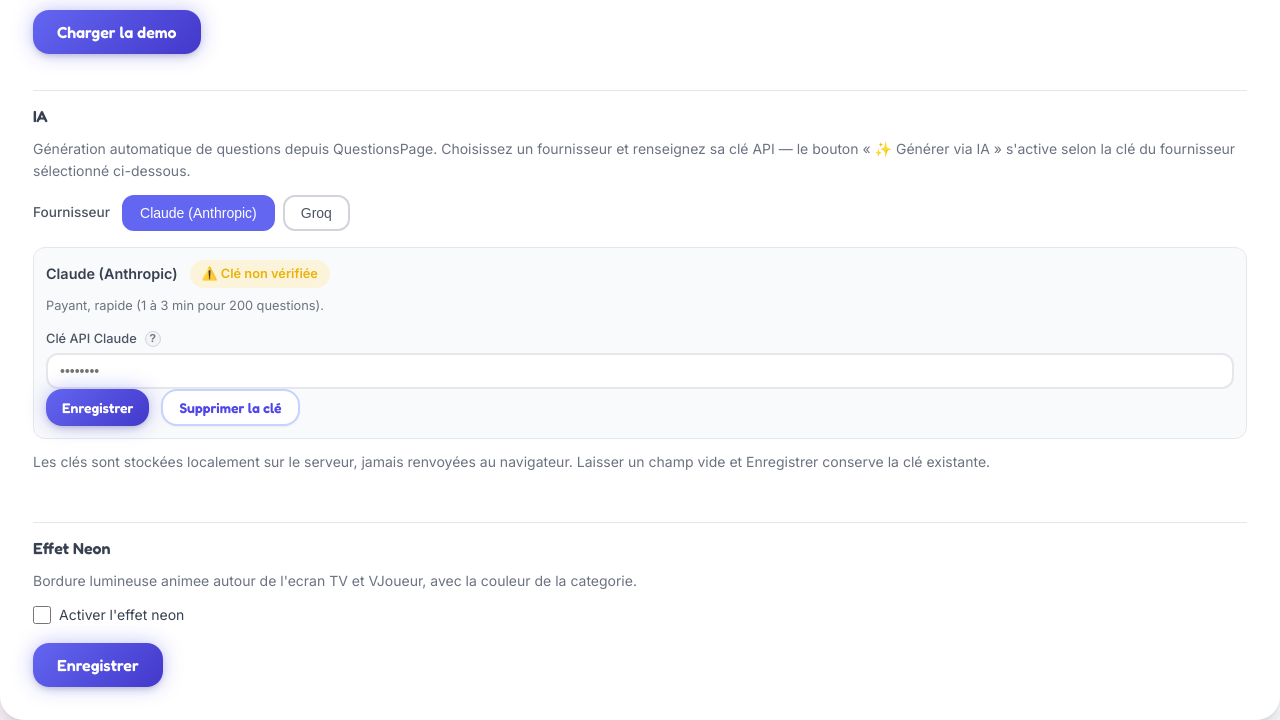
Test: ConfigPage — Sélecteur de fournisseur IA, sélection manuelle uniquement (bugfix/config-api-key-help, commit 1d5de9f) › clearing the only configured key does NOT switch the active provider or the visible card
(page scrolled)
Expected: the text "⚠️ Clé non vérifiée" is shown, [190, 260, 330, 288]
Click the button "Supprimer la clé": (231, 408) [162, 389, 300, 426]
(page scrolled)
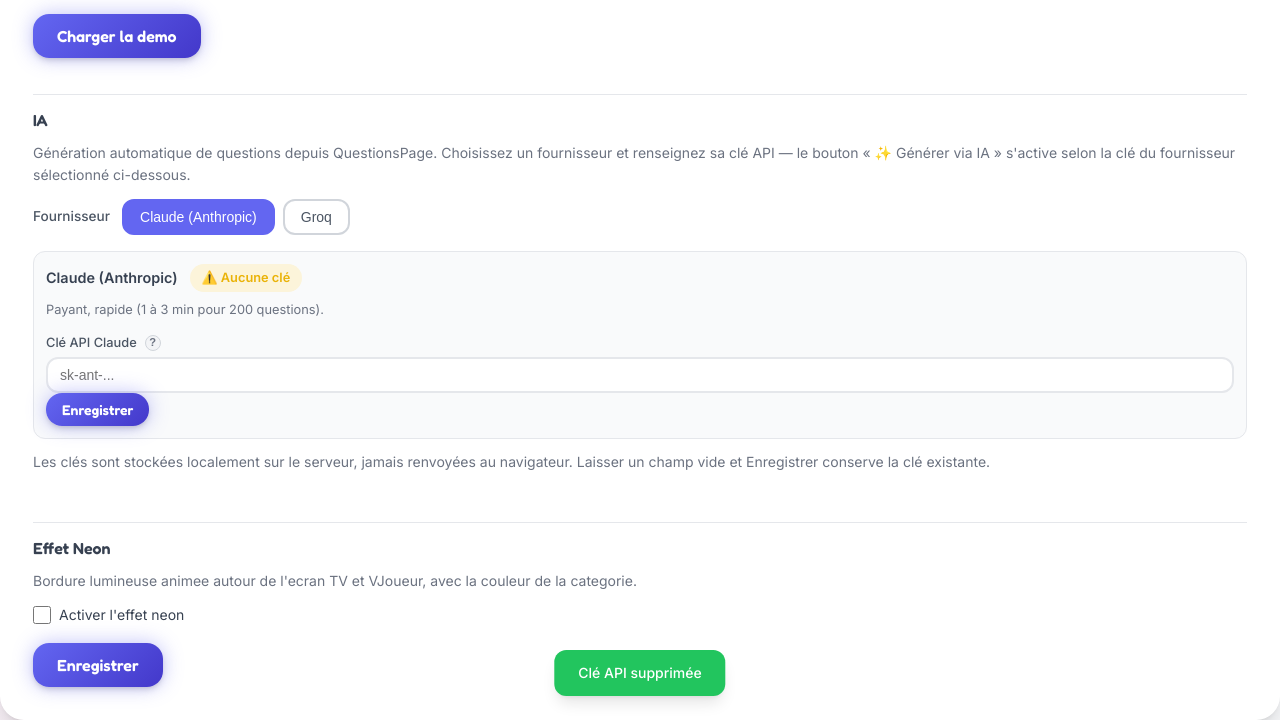
Expected: the text "Clé API Claude" is shown, [46, 335, 137, 350]
Result: the text "⚠️ Aucune clé" is shown at [190, 264, 302, 292]
